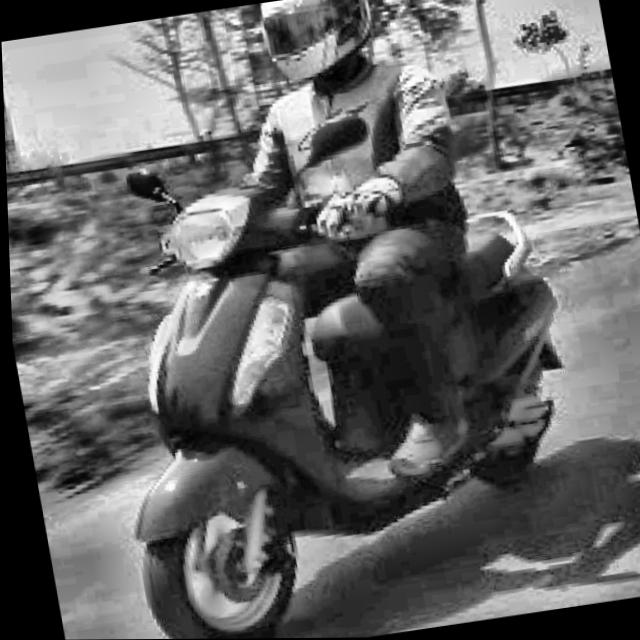motorcycle: (31, 82, 602, 640)
